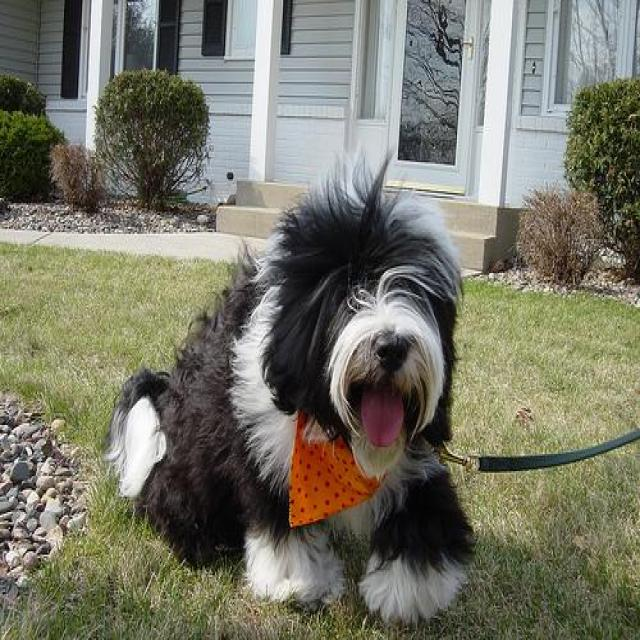happy: (264, 143, 523, 484)
